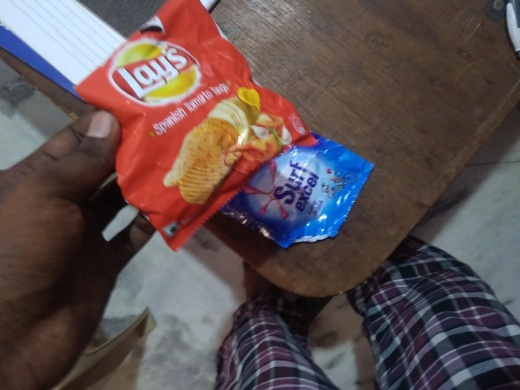lays: (63, 1, 310, 233)
surf: (219, 121, 381, 245)
